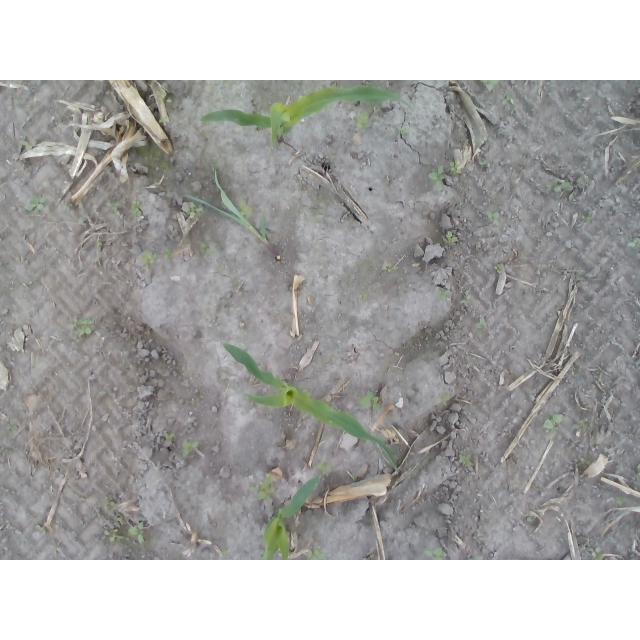Maize: (222, 341, 401, 472), (197, 80, 401, 150), (183, 166, 270, 245), (263, 476, 322, 561)
Weeds: (101, 515, 145, 546), (247, 475, 278, 504), (355, 390, 382, 410), (545, 178, 572, 195), (71, 319, 95, 338), (544, 414, 569, 432), (431, 164, 446, 192), (301, 544, 327, 560), (479, 210, 502, 227), (31, 197, 49, 218), (181, 201, 203, 217), (423, 545, 445, 560), (182, 440, 200, 458), (239, 199, 256, 218), (139, 250, 158, 267), (458, 448, 475, 467), (198, 240, 218, 256), (441, 230, 459, 247), (448, 160, 465, 177), (479, 80, 501, 93), (432, 392, 448, 409), (316, 463, 333, 478), (356, 110, 369, 129), (106, 201, 122, 216), (129, 200, 143, 217), (575, 456, 592, 469), (589, 546, 604, 560), (164, 430, 177, 445), (382, 263, 399, 274), (103, 496, 117, 509), (575, 420, 589, 432), (476, 318, 489, 330), (436, 287, 448, 299), (626, 239, 640, 249), (494, 263, 506, 274), (162, 247, 174, 258), (0, 446, 12, 457), (615, 494, 625, 507), (633, 463, 640, 481), (7, 420, 17, 432), (399, 127, 409, 137), (503, 95, 514, 104), (22, 142, 32, 151), (479, 160, 489, 168), (220, 548, 229, 556), (63, 201, 73, 208), (360, 292, 368, 300), (273, 548, 280, 557), (161, 88, 168, 97)
